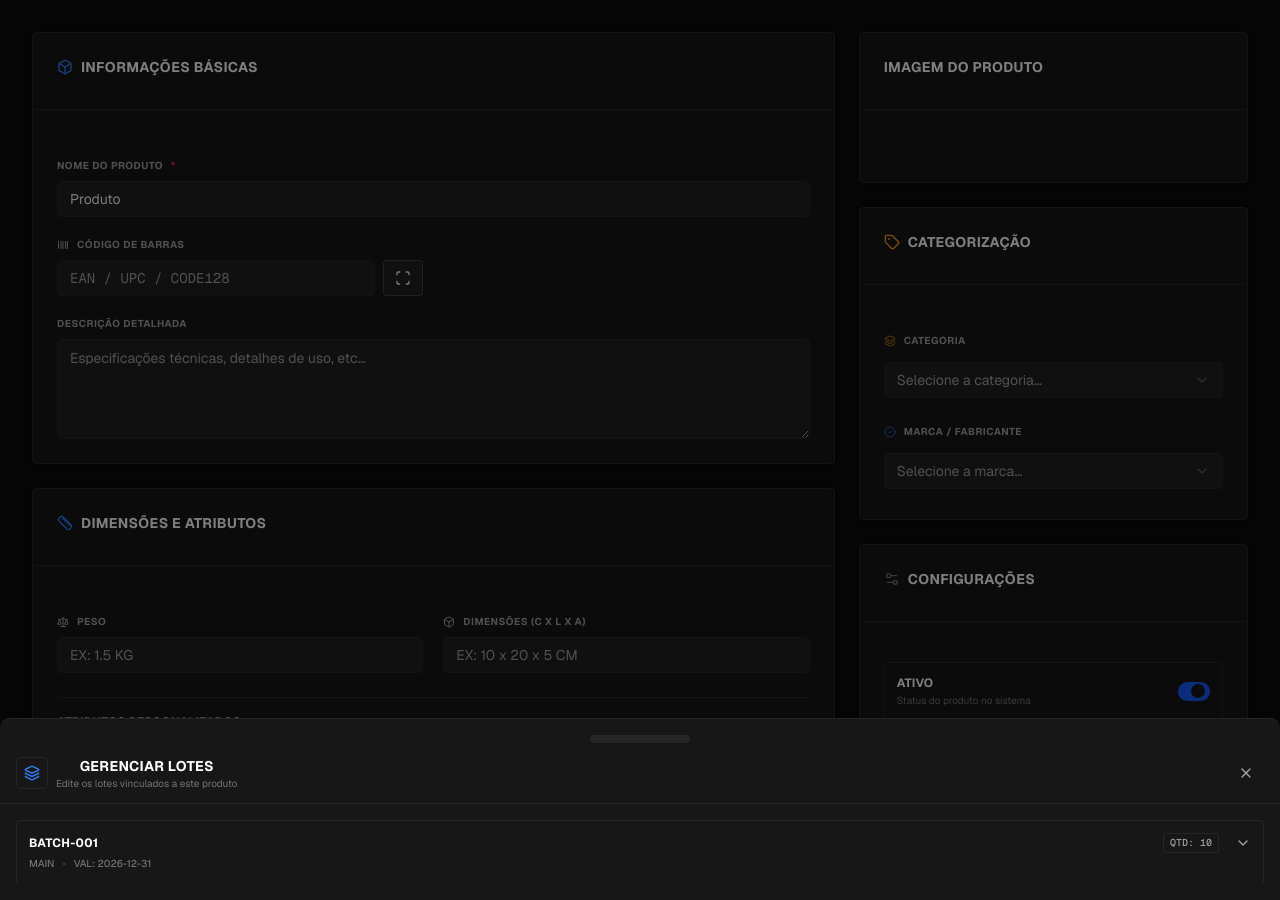
Test: ProductForm batches drawer › shows selling price field in the batches drawer
Step 1. Click the text "BATCH-001" → point(64, 844), box [29,836,98,852]
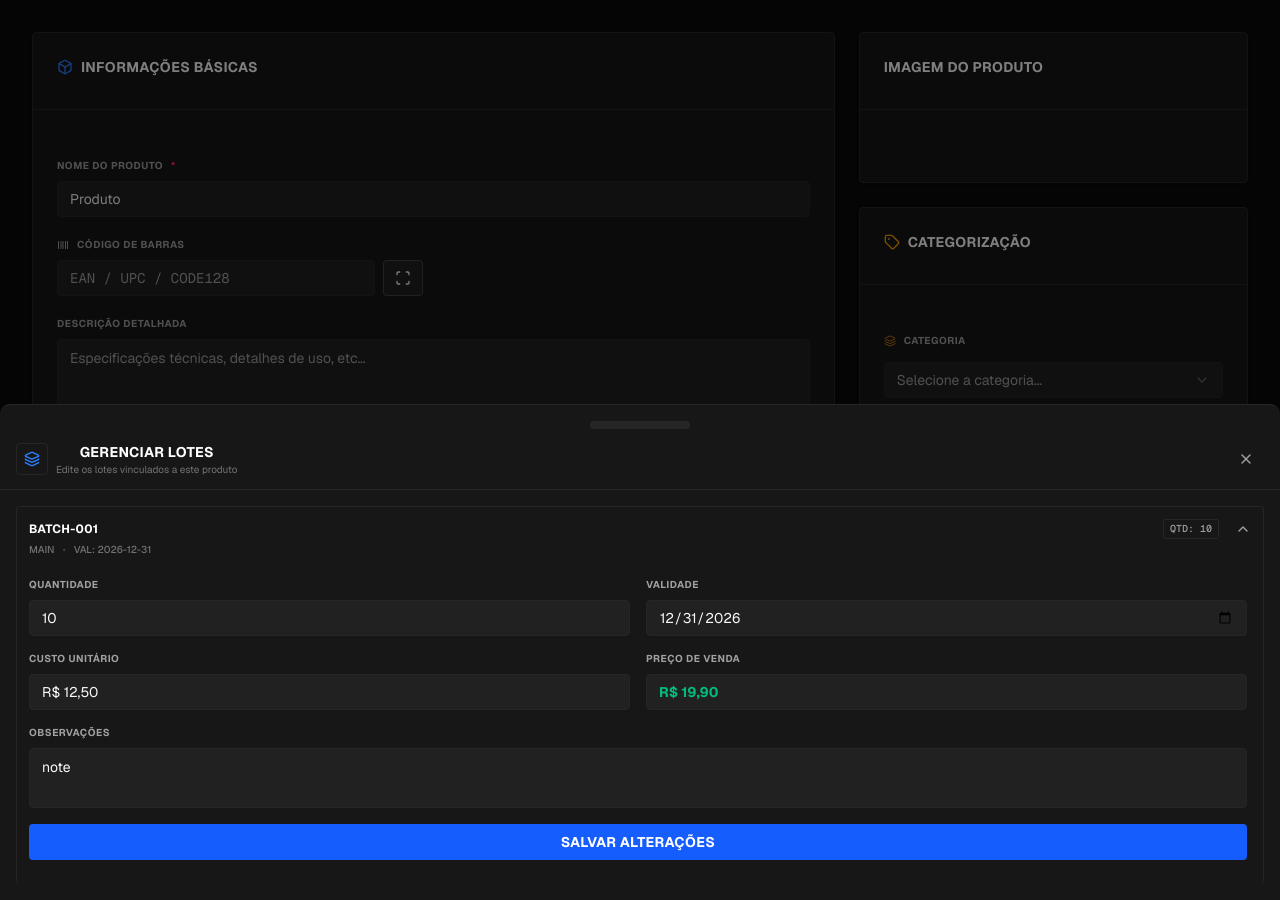
Expected: the text "Preço de Venda" is shown, [646,651,740,664]
